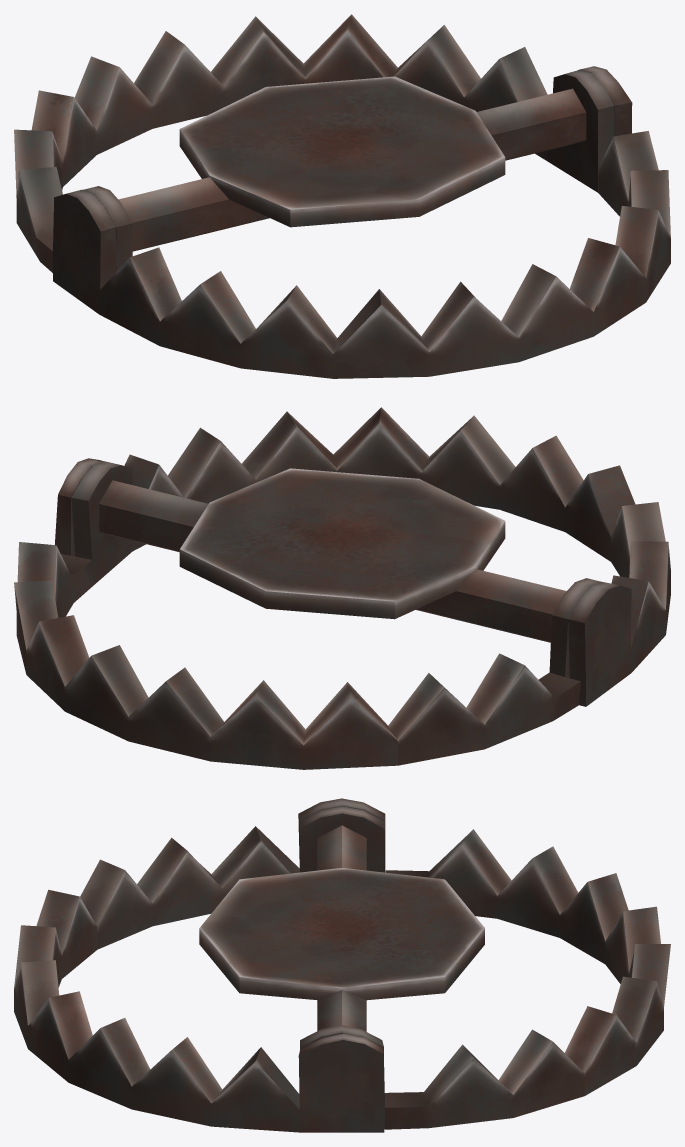
Rendered from Leghold_trap.fbx.
3 views of the same model, one above another, from view 1: azimuth 30°, elevation 25°; view 2: azimuth 150°, elevation 25°; view 3: azimuth 270°, elevation 25° (orthographic). The views are drawn at different scales.
Parts seen in each view (by area): view 1: pCylinder1, pCylinder4, pCylinder2; view 2: pCylinder2, pCylinder4, pCylinder1; view 3: pCylinder1, pCylinder2, pCylinder4.
Boxes of the visible parts, x1,y1,x2,y2 form: pCylinder1: (52,66,670,378); pCylinder4: (118,76,586,251); pCylinder2: (14,14,614,272); pCylinder2: (14,461,602,769); pCylinder4: (99,468,566,642); pCylinder1: (55,407,670,706); pCylinder1: (14,798,385,1132); pCylinder2: (300,806,670,1129); pCylinder4: (199,825,484,1031).
Size of the model in its own units: 7.74 by 1.39 by 8.89.
